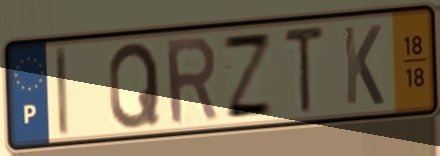I: (52, 43, 72, 140)
K: (340, 22, 387, 108)
Q: (106, 39, 163, 133)
R: (162, 33, 222, 129)
T: (281, 23, 327, 118)
Z: (219, 31, 277, 121)
